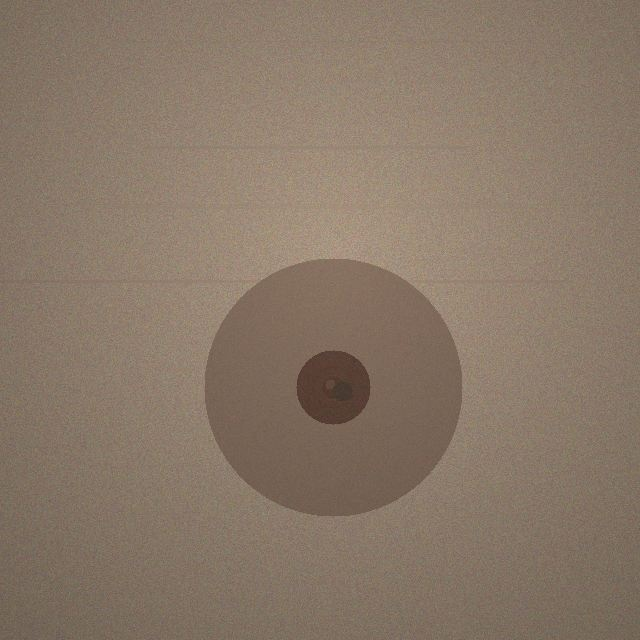cold_weld: (204, 258, 462, 516)
